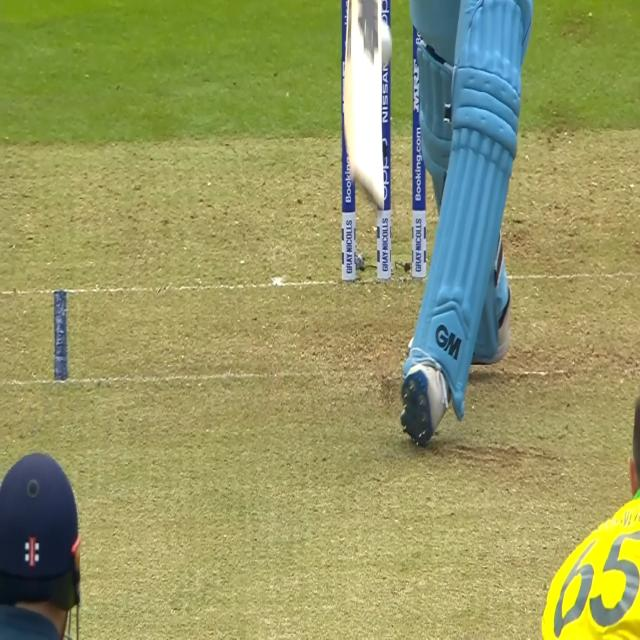ball: (380, 19, 398, 74)
